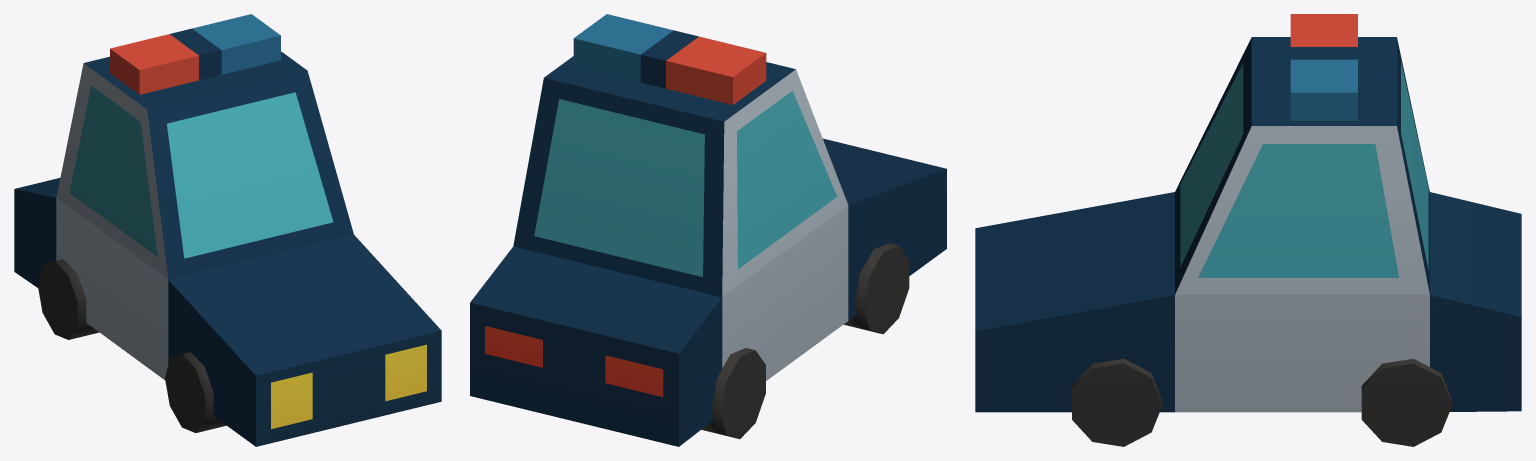
Rendered from Car_5_3.fbx.
The picture shows the model from 3 angles, left to right: view 1: azimuth 30°, elevation 25°; view 2: azimuth 150°, elevation 25°; view 3: azimuth 270°, elevation 25°; orthographic projection. The views are drawn at different scales.
Visible parts, largest first — view 1: Car_5_3; view 2: Car_5_3; view 3: Car_5_3.
Boxes of the visible parts, box(x1,y1,x2,y2) form: Car_5_3: box(14, 14, 441, 446); Car_5_3: box(470, 14, 946, 446); Car_5_3: box(975, 14, 1521, 446).
Bounding box in the file's own units: 211 × 294 × 432.
